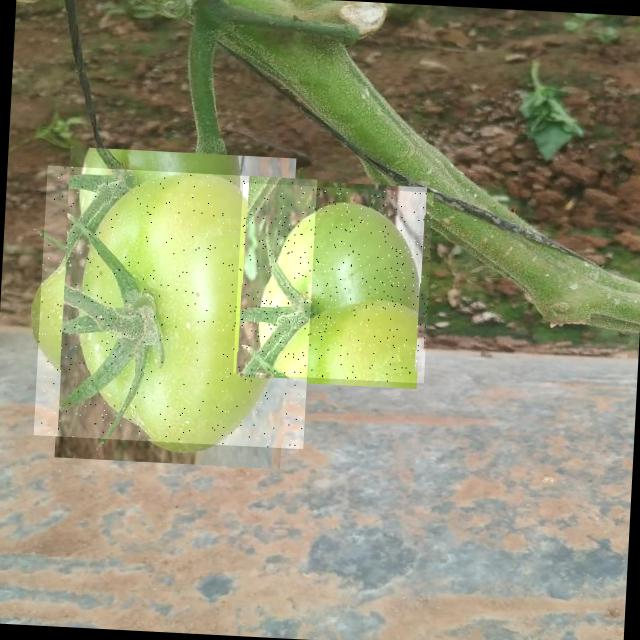Unripe Tomato: (34, 166, 318, 450), (233, 182, 434, 384)
